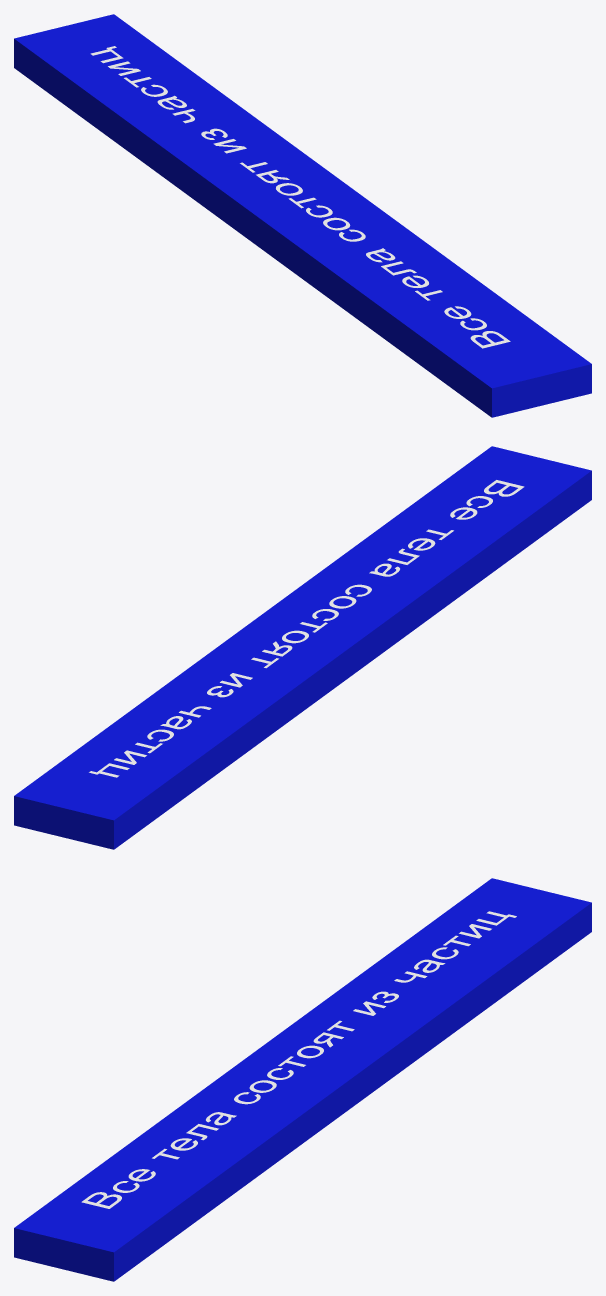
3 renders of one model, top to bottom at view 1: azimuth 30°, elevation 25°; view 2: azimuth 150°, elevation 25°; view 3: azimuth 330°, elevation 25°, orthographic.
Visible parts, largest first — view 1: Text001; view 2: Text001; view 3: Text001.
Part boxes in pixels (x1,y1,x2,y2): Text001: (14, 14, 591, 417); Text001: (14, 446, 591, 849); Text001: (14, 878, 591, 1281).
Bounding box in the file's own units: 9.69 × 3.17 × 80.2.
